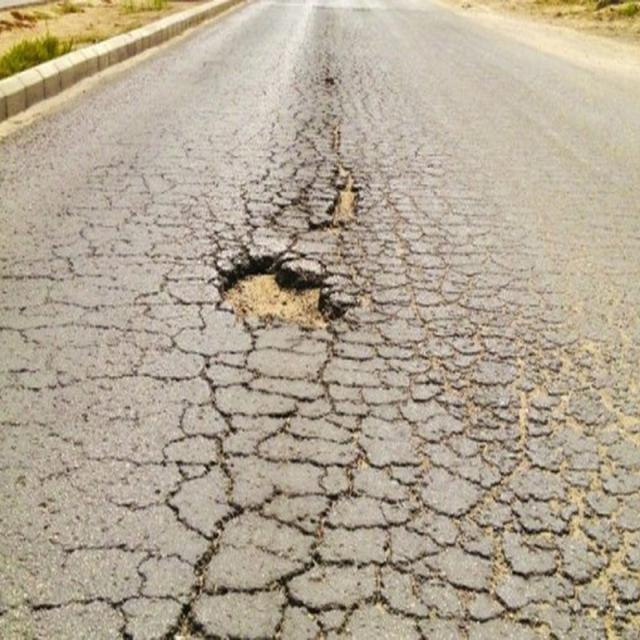p5: (225, 256, 355, 326), (329, 166, 355, 229)
